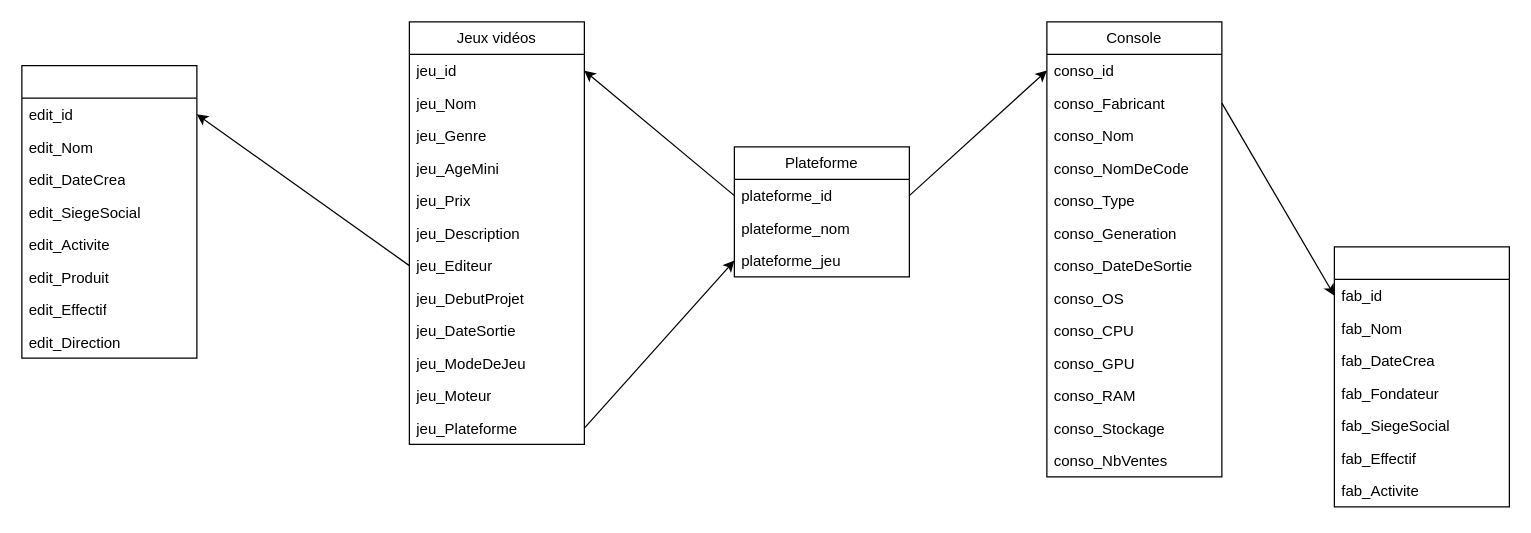
This 1531x533 diagram has some shape labels left out. The box of each missing label's shape, as (x1, y1, x2, y2) in pixels:
Editeur: (21, 64, 197, 358)
Fabricant: (1333, 246, 1509, 507)
